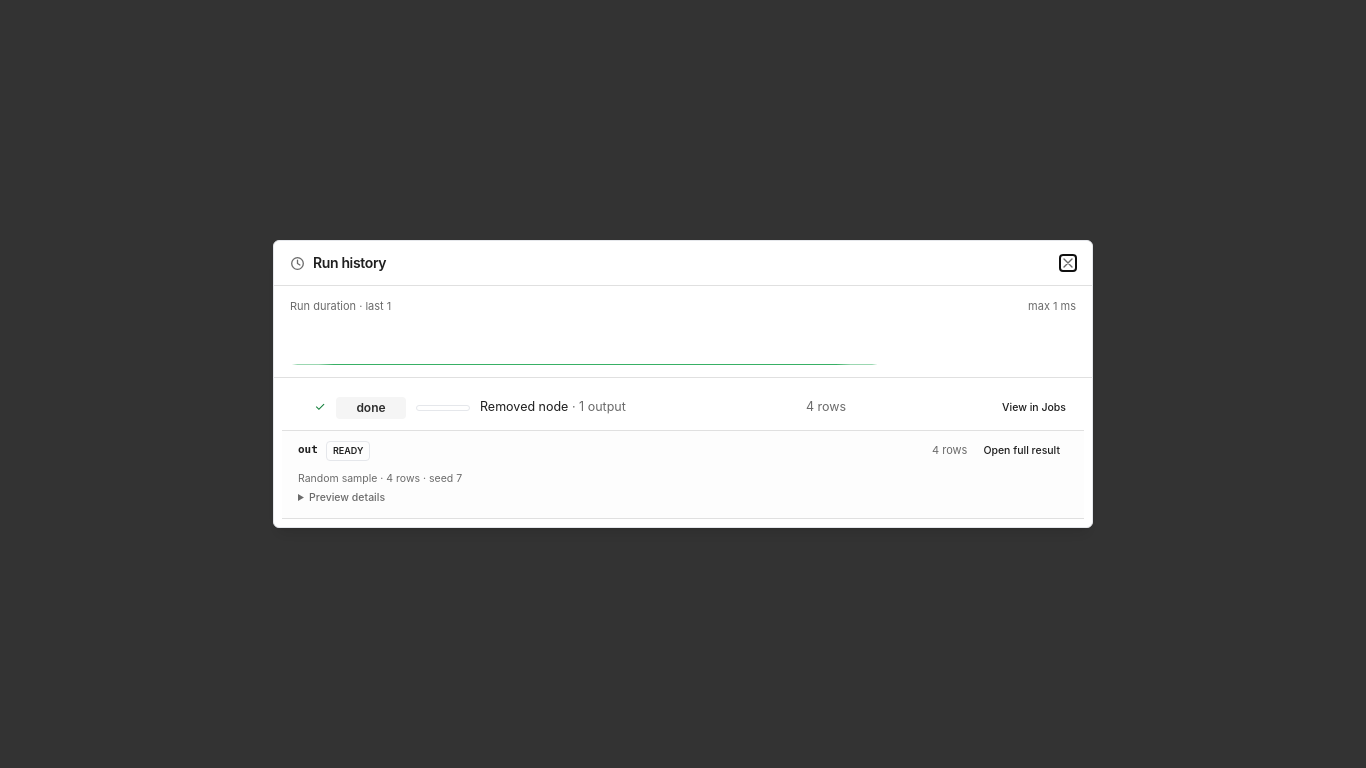
Test case: durable full results › shows persisted sample evidence beside a retained result
Expected: the text "Random sample · 4 rows · seed 7" is shown, top-left (298, 472), bottom-right (462, 484)
Click the heading "Preview details": (347,498) top-left (309, 491), bottom-right (385, 504)
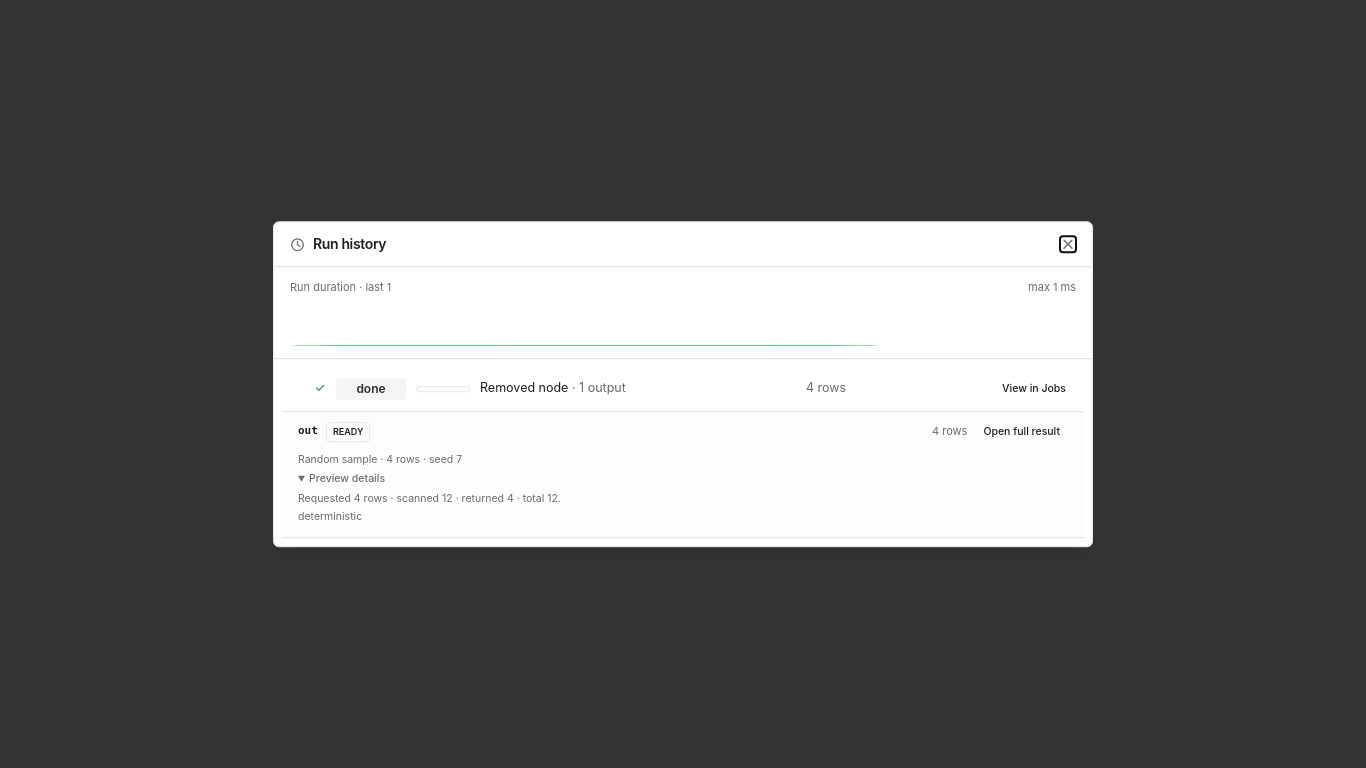
Result: the text "Requested 4 rows · scanned 12 · returned 4 · total 12." is shown at top-left (298, 492), bottom-right (561, 505)
